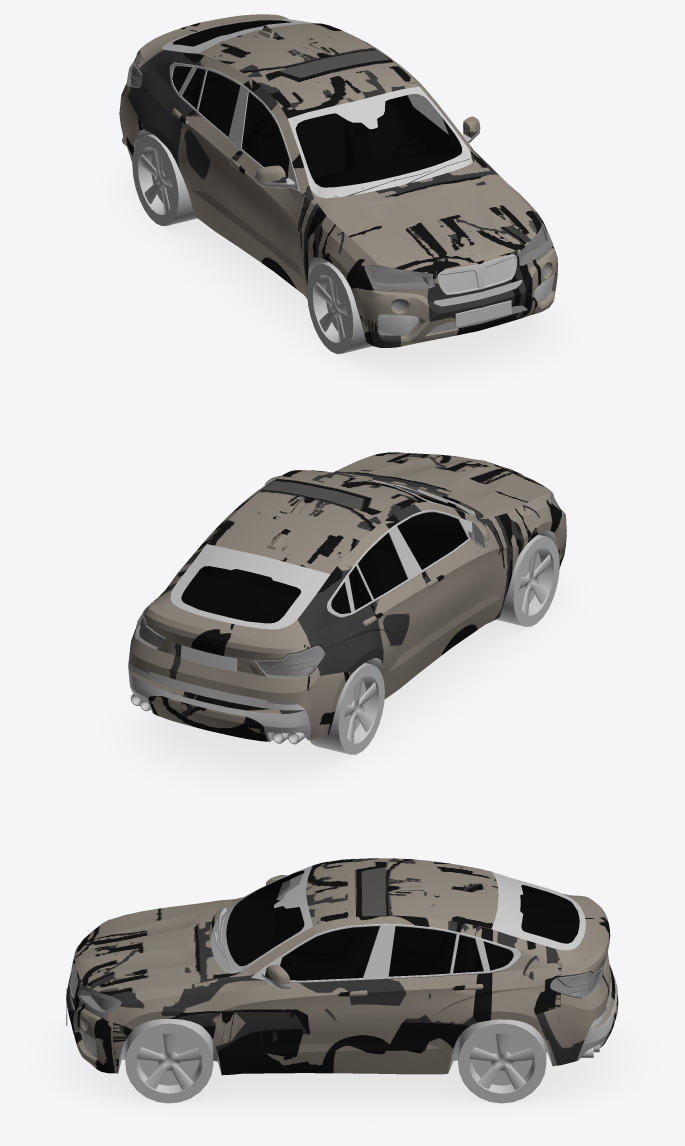
3 renders of one model, top to bottom at view 1: azimuth 30°, elevation 25°; view 2: azimuth 150°, elevation 25°; view 3: azimuth 270°, elevation 25°, orthographic. The views are drawn at different scales.
Visible parts, largest first — view 1: Body_Body_0, Glass_Glass_0, Shadow_Shadow_0, Details_Texture_0, Interior_Interior_0, Wheel_RR_Texture_0, Wheel_FR_Texture_0; view 2: Body_Body_0, Shadow_Shadow_0, Details_Texture_0, Glass_Glass_0, Interior_Interior_0, Wheel_RR_Texture_0, Wheel_FR_Texture_0; view 3: Body_Body_0, Shadow_Shadow_0, Glass_Glass_0, Interior_Interior_0, Details_Texture_0, Wheel_FL_Texture_0, Wheel_RL_Texture_0.
Part boxes in pixels (x1,y1,x2,y2): Body_Body_0: (119, 14, 557, 347); Glass_Glass_0: (126, 20, 553, 311); Shadow_Shadow_0: (117, 169, 562, 383); Details_Texture_0: (126, 19, 554, 335); Interior_Interior_0: (172, 20, 461, 187); Wheel_RR_Texture_0: (132, 134, 197, 225); Wheel_FR_Texture_0: (307, 261, 372, 353); Body_Body_0: (128, 452, 566, 741); Shadow_Shadow_0: (124, 576, 569, 787); Details_Texture_0: (128, 473, 558, 741); Glass_Glass_0: (132, 452, 561, 704); Interior_Interior_0: (181, 495, 469, 623); Wheel_RR_Texture_0: (309, 662, 384, 754); Wheel_FR_Texture_0: (496, 534, 559, 626); Body_Body_0: (66, 858, 618, 1075); Shadow_Shadow_0: (48, 1023, 636, 1112); Glass_Glass_0: (76, 871, 606, 1028); Interior_Interior_0: (226, 870, 579, 980); Details_Texture_0: (66, 865, 617, 1074); Wheel_FL_Texture_0: (125, 1019, 213, 1103); Wheel_RL_Texture_0: (458, 1019, 546, 1103).
Bounding box in the file's own units: 2.95 × 1.66 × 5.65.
